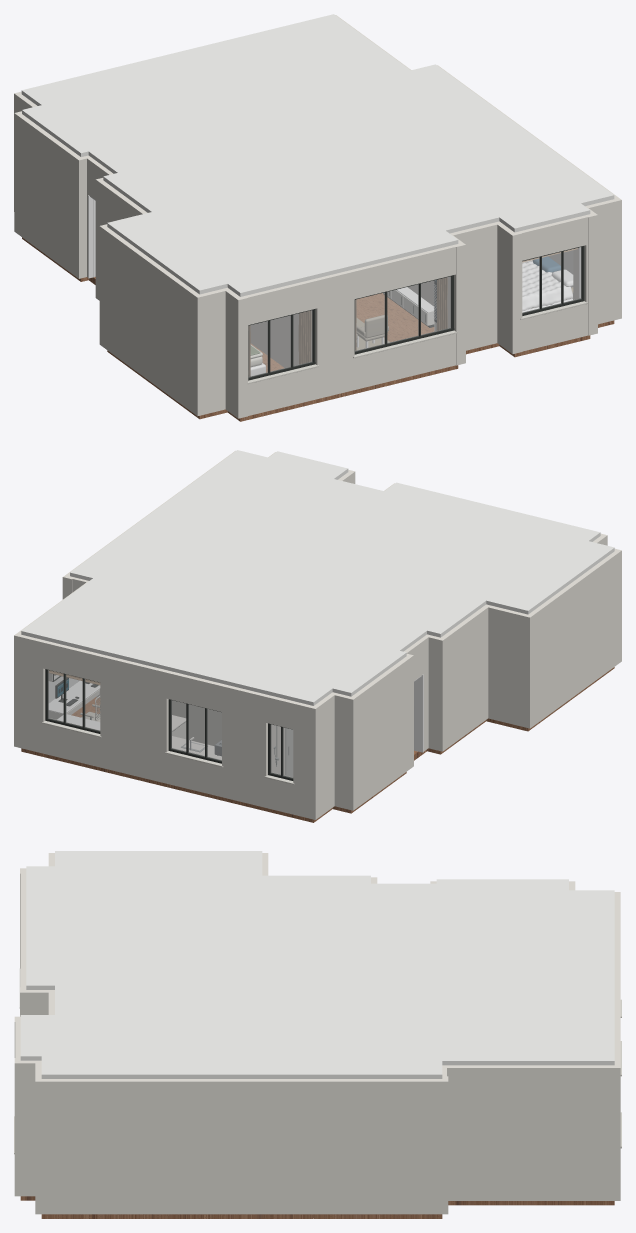
The model's file is apartment-design-full.glb.
3 views of the same model, one above another, from view 1: azimuth 30°, elevation 25°; view 2: azimuth 150°, elevation 25°; view 3: azimuth 270°, elevation 25° (orthographic). The views are drawn at different scales.
Parts seen in each view (by area): view 1: Ceiling_optional, Walls_1_to_3m, Walls_0_to_1m, Overall_floor_slab, living_south_glass.001, living_south_glass.002, living_south_glass, Master_soft_ochre_duvet, bedB_south_glass.001, bedB_south_glass.002, bedC_south_glass.001, bedB_south_glass (+4 smaller); view 2: Ceiling_optional, Walls_1_to_3m, Walls_0_to_1m, Overall_floor_slab, kitchen_north_glass.001, bedA_north_glass.001, bedA_north_glass.002, entrance_frame.001, kitchen_north_glass, kitchen_north_glass.002, bedA_north_glass, S02_desktop; view 3: Ceiling_optional, Walls_1_to_3m, Walls_0_to_1m, Overall_floor_slab.
Part boxes in pixels (x1,y1,x2,y2): Ceiling_optional: [21, 14, 614, 296]; Walls_1_to_3m: [14, 15, 621, 379]; Walls_0_to_1m: [14, 173, 621, 418]; Overall_floor_slab: [22, 237, 614, 421]; living_south_glass.001: [387, 284, 418, 343]; living_south_glass.002: [421, 276, 450, 335]; living_south_glass: [355, 292, 384, 351]; Master_soft_ochre_duvet: [522, 261, 572, 310]; bedB_south_glass.001: [270, 315, 290, 371]; bedB_south_glass.002: [293, 310, 312, 366]; bedC_south_glass.001: [542, 252, 561, 308]; bedB_south_glass: [249, 321, 267, 377]; Ceiling_optional: [21, 450, 614, 705]; Walls_1_to_3m: [14, 450, 621, 782]; Walls_0_to_1m: [14, 624, 621, 819]; Overall_floor_slab: [21, 667, 614, 822]; kitchen_north_glass.001: [188, 704, 204, 756]; bedA_north_glass.001: [66, 674, 82, 726]; bedA_north_glass.002: [48, 670, 63, 721]; entrance_frame.001: [414, 674, 423, 752]; kitchen_north_glass: [207, 709, 221, 760]; kitchen_north_glass.002: [171, 700, 185, 751]; bedA_north_glass: [85, 679, 99, 730]; S02_desktop: [48, 680, 100, 713]; Ceiling_optional: [20, 851, 614, 1078]; Walls_1_to_3m: [14, 853, 620, 1170]; Walls_0_to_1m: [14, 962, 620, 1214]; Overall_floor_slab: [20, 1196, 614, 1218].
Size of the model in its own units: 11.09 by 3.26 by 12.45.
Materials: 59 (1 with a texture image).
